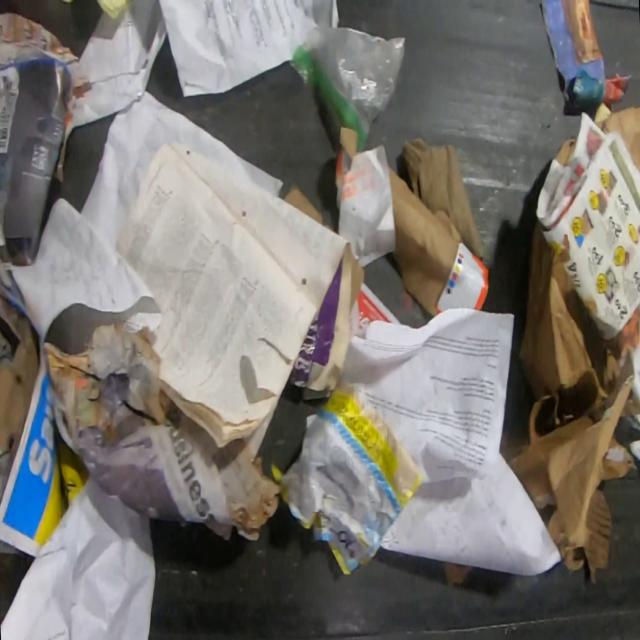cardboard: (500, 216, 640, 586), (387, 163, 490, 317), (286, 239, 367, 393), (401, 135, 483, 260), (0, 291, 38, 456), (282, 180, 337, 233), (600, 105, 640, 173), (333, 127, 358, 187), (444, 560, 474, 588), (554, 136, 578, 166)
soft_plastic: (290, 22, 406, 152)
